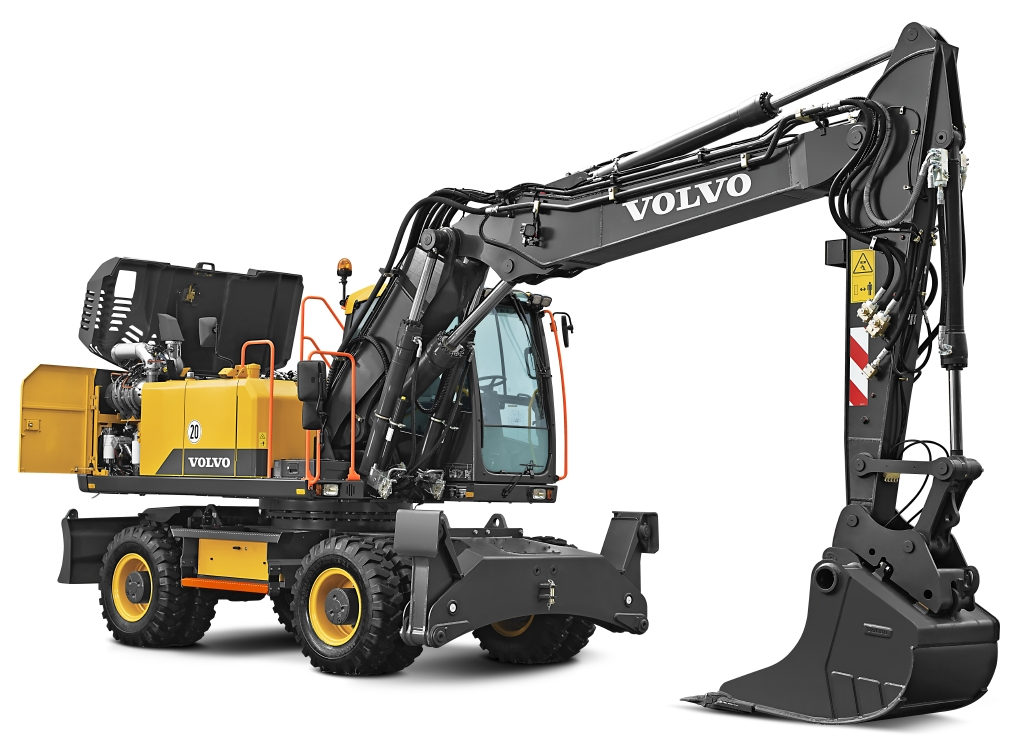excavator: (17, 29, 1003, 729)
